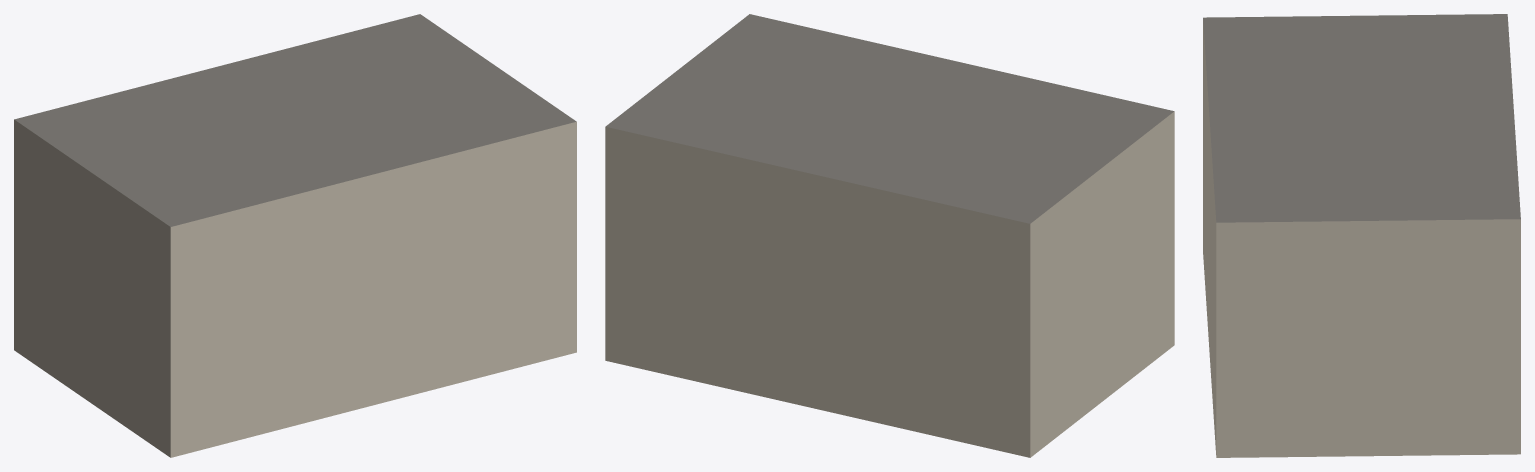
3 views of the same model, side by side, from view 1: azimuth 30°, elevation 25°; view 2: azimuth 150°, elevation 25°; view 3: azimuth 270°, elevation 25° (orthographic).
Parts seen in each view (by area): view 1: HP-w1286959176; view 2: HP-w1286959176; view 3: HP-w1286959176.
Boxes of the visible parts, x1,y1,x2,y2 form: HP-w1286959176: [14, 14, 576, 457]; HP-w1286959176: [605, 14, 1174, 457]; HP-w1286959176: [1203, 14, 1520, 457].
Size of the model in its own units: 34.25 by 18 by 22.04.
